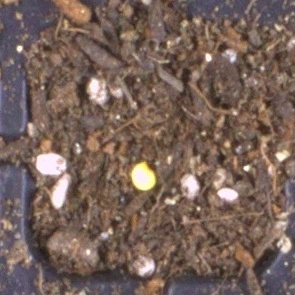chilli seed: (128, 160, 157, 191)
